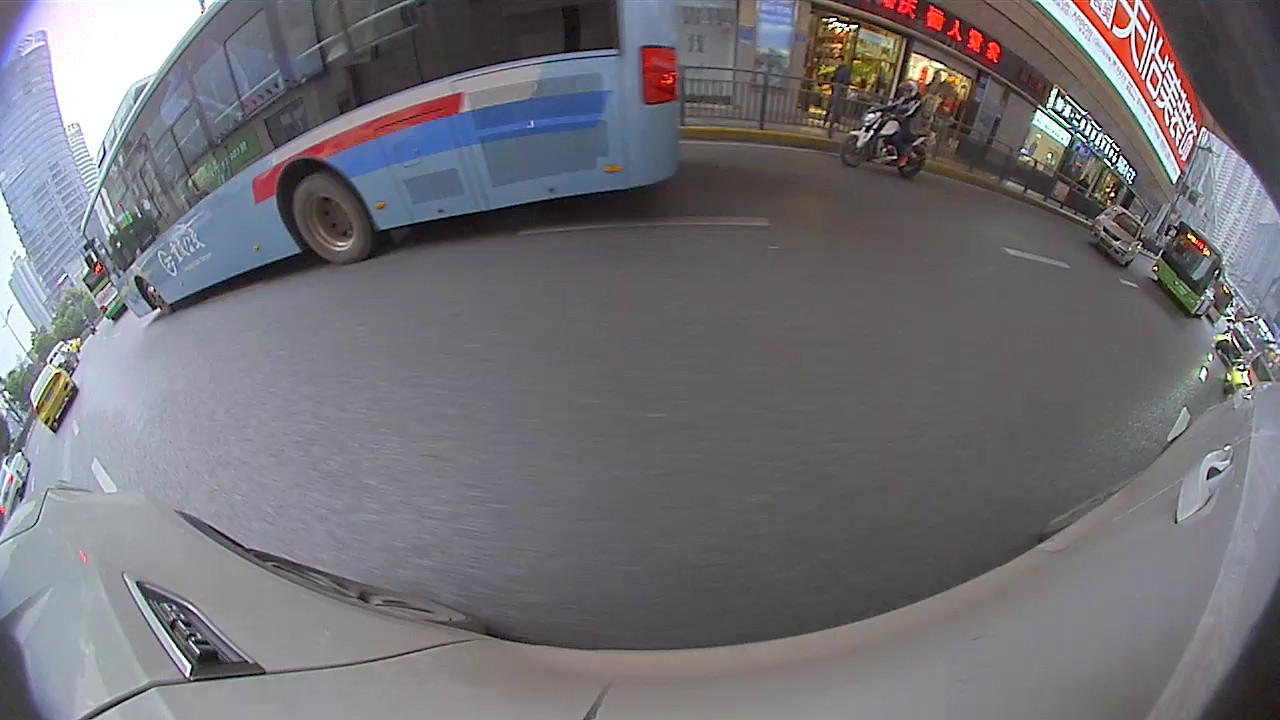bus: (91, 0, 680, 323), (1147, 224, 1228, 320)
car: (27, 363, 82, 436), (1089, 206, 1147, 267)
front: (841, 138, 870, 166)
rear: (287, 178, 377, 262), (902, 145, 925, 180)
rider: (836, 81, 937, 178)
